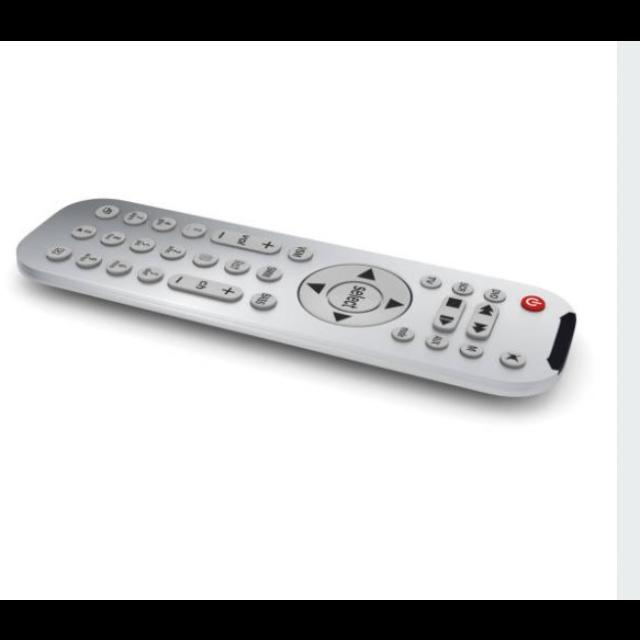TV-Remote-Control: (15, 198, 579, 400)
